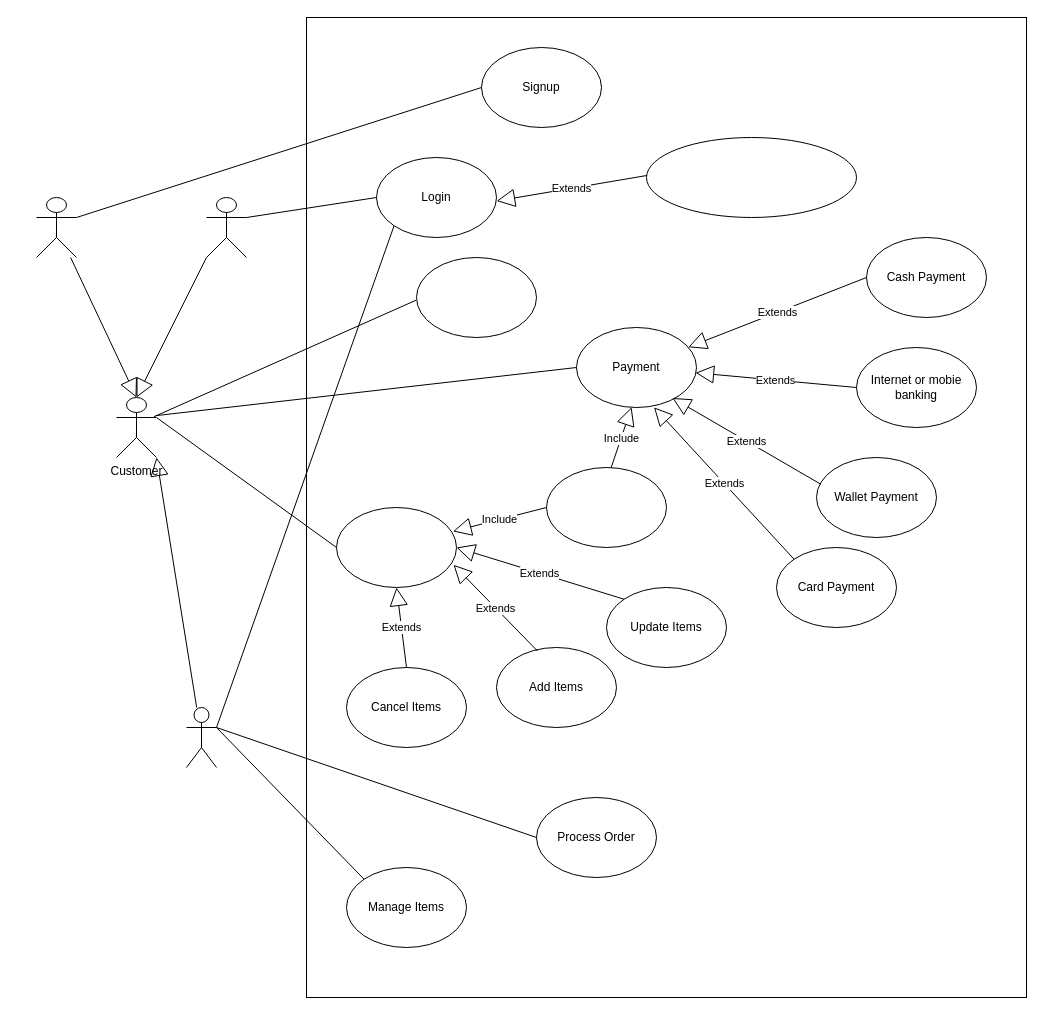
Some shapes in this 1044 by 1015 pixel diagram are drawn without their labels. The shapes that lost their labels are listed below. From the top down, each one's box as (x1, y1, x2, y2) in pixels, then its label:
(646, 136, 856, 218): Update User name or password
(36, 196, 76, 258): New Customer
(206, 196, 246, 258): Registered Customer
(416, 256, 536, 338): View Items
(546, 466, 666, 548): Purchase Items
(336, 506, 456, 588): View Cart
(186, 706, 216, 768): Admin
